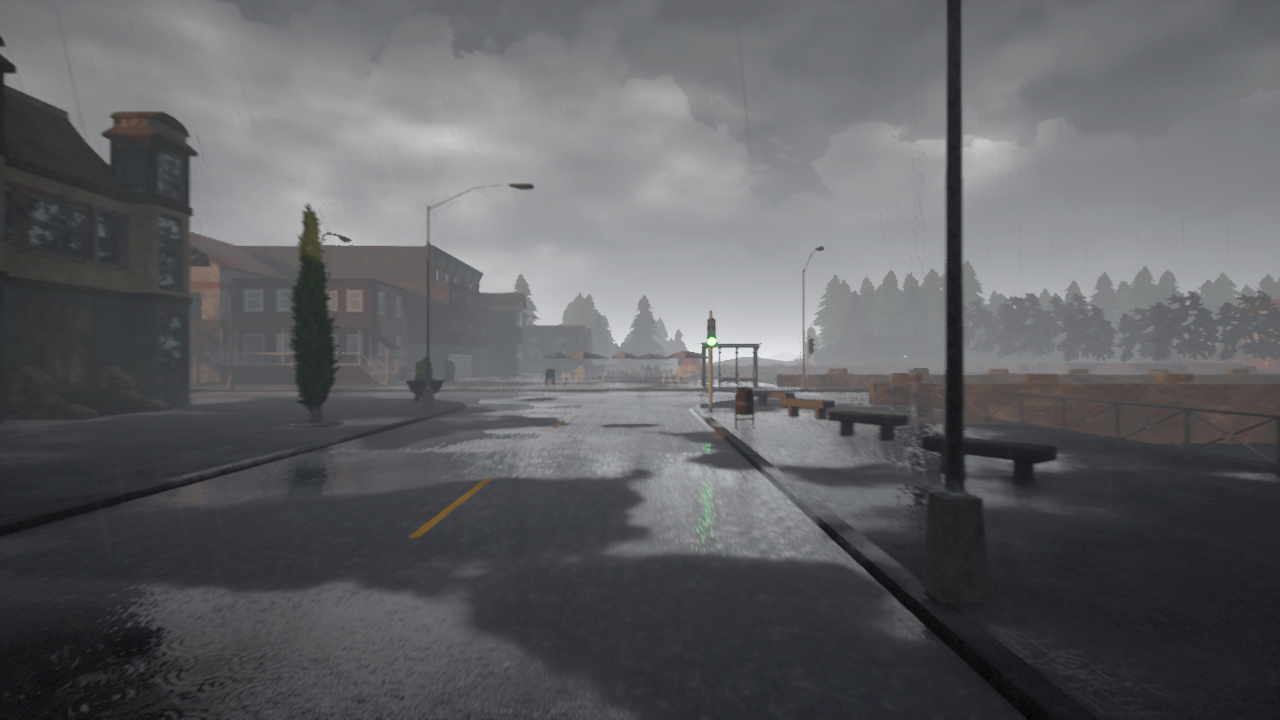green: (706, 318, 716, 348)
